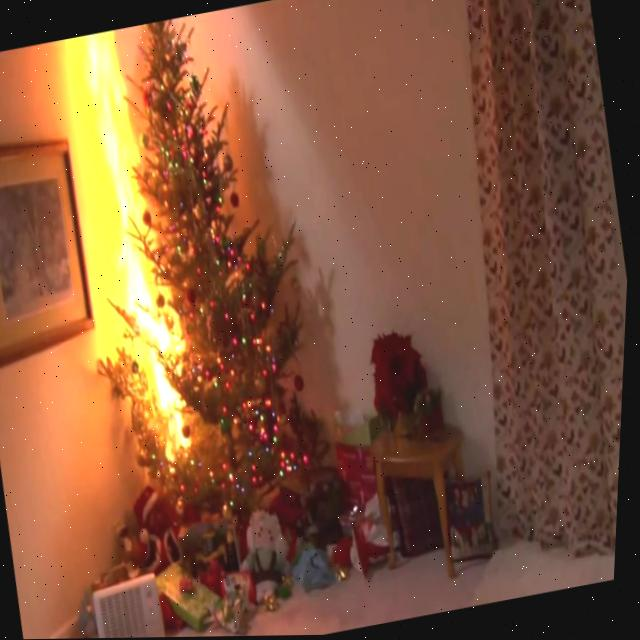fire: (51, 29, 205, 471)
